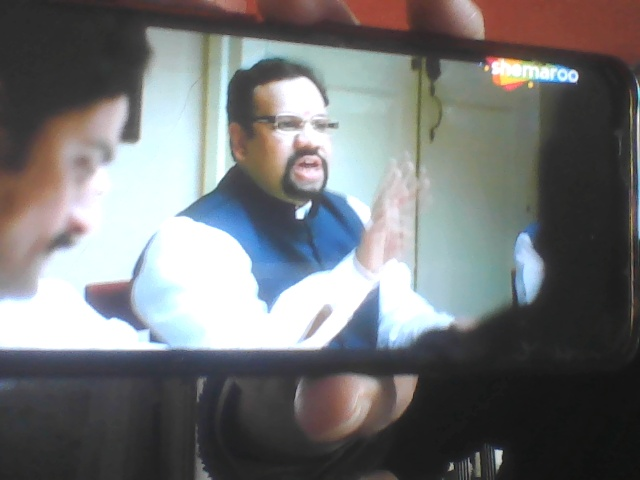fake: (226, 45, 344, 213)
